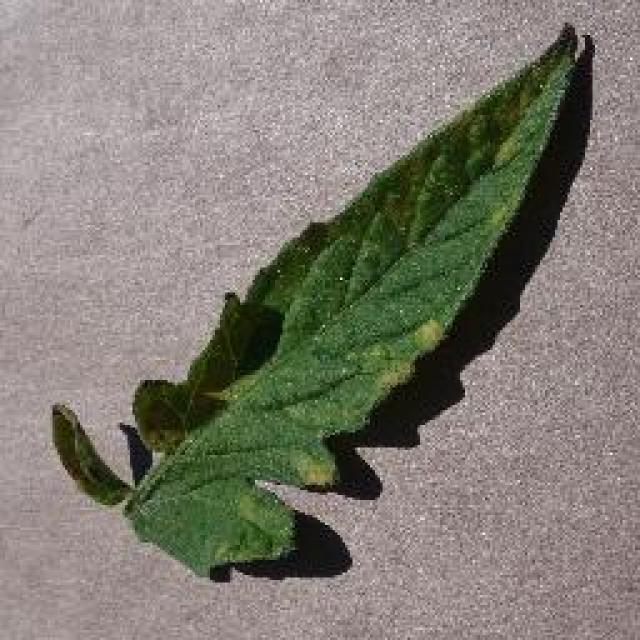Tomato mold leaf: (51, 20, 584, 578)
